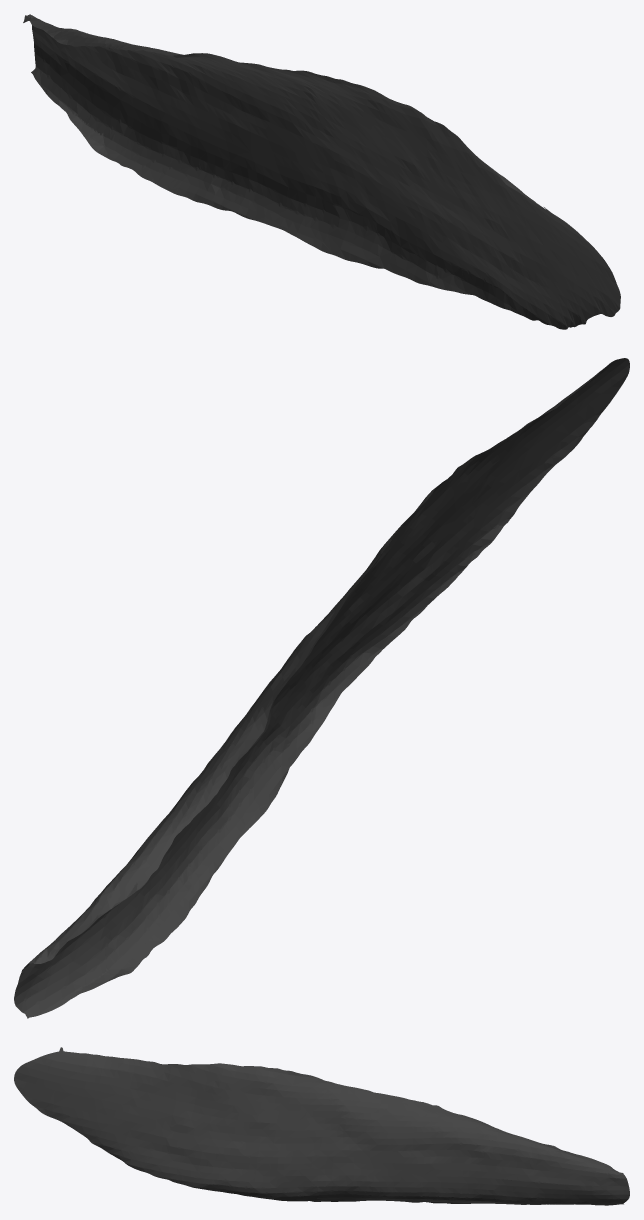
The model's file is musc_CDE.glb.
3 views of the same model, one above another, from view 1: azimuth 30°, elevation 25°; view 2: azimuth 150°, elevation 25°; view 3: azimuth 270°, elevation 25° (orthographic). The views are drawn at different scales.
Visible parts, largest first — view 1: musc_CDE; view 2: musc_CDE; view 3: musc_CDE.
Boxes of the visible parts, x1,y1,x2,y2 form: musc_CDE: [23, 14, 620, 329]; musc_CDE: [14, 358, 629, 1018]; musc_CDE: [14, 1047, 629, 1205].
Size of the model in its own units: 0.0445 by 0.11 by 0.4091.
Materials: 1 (1 with a texture image).
